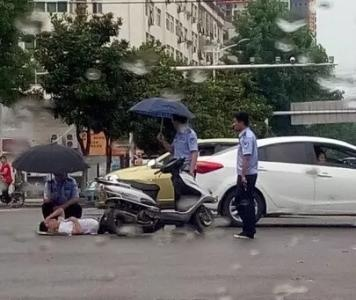falling: (32, 208, 113, 237)
